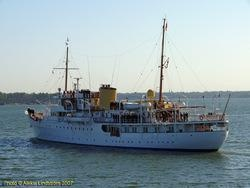otherboat: (25, 82, 235, 151)
